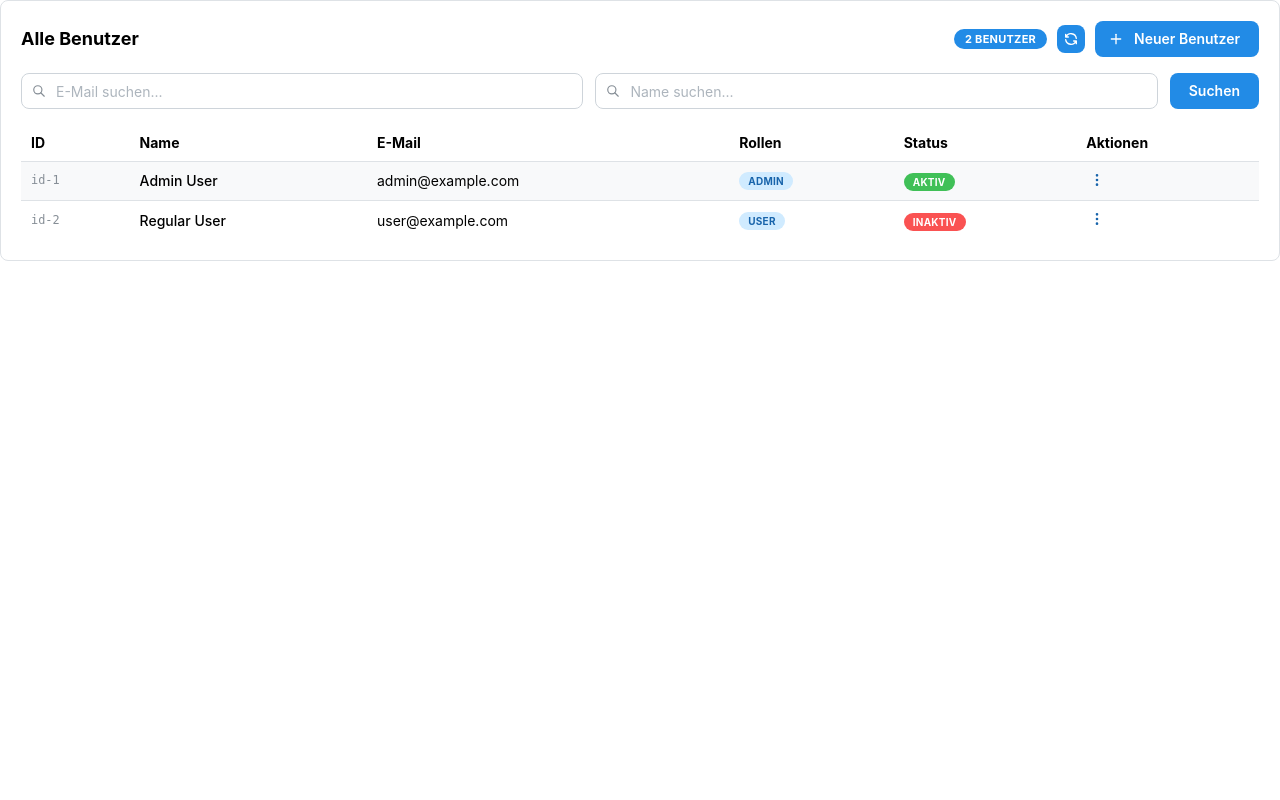
Test: UserList › löscht einen Benutzer nach Bestätigung und lädt die Liste neu
Expected: the text "admin@example.com" is shown, [377,172,519,189]
Click the button without text in the row of "id-1": (1097, 180) [1086,169,1108,191]
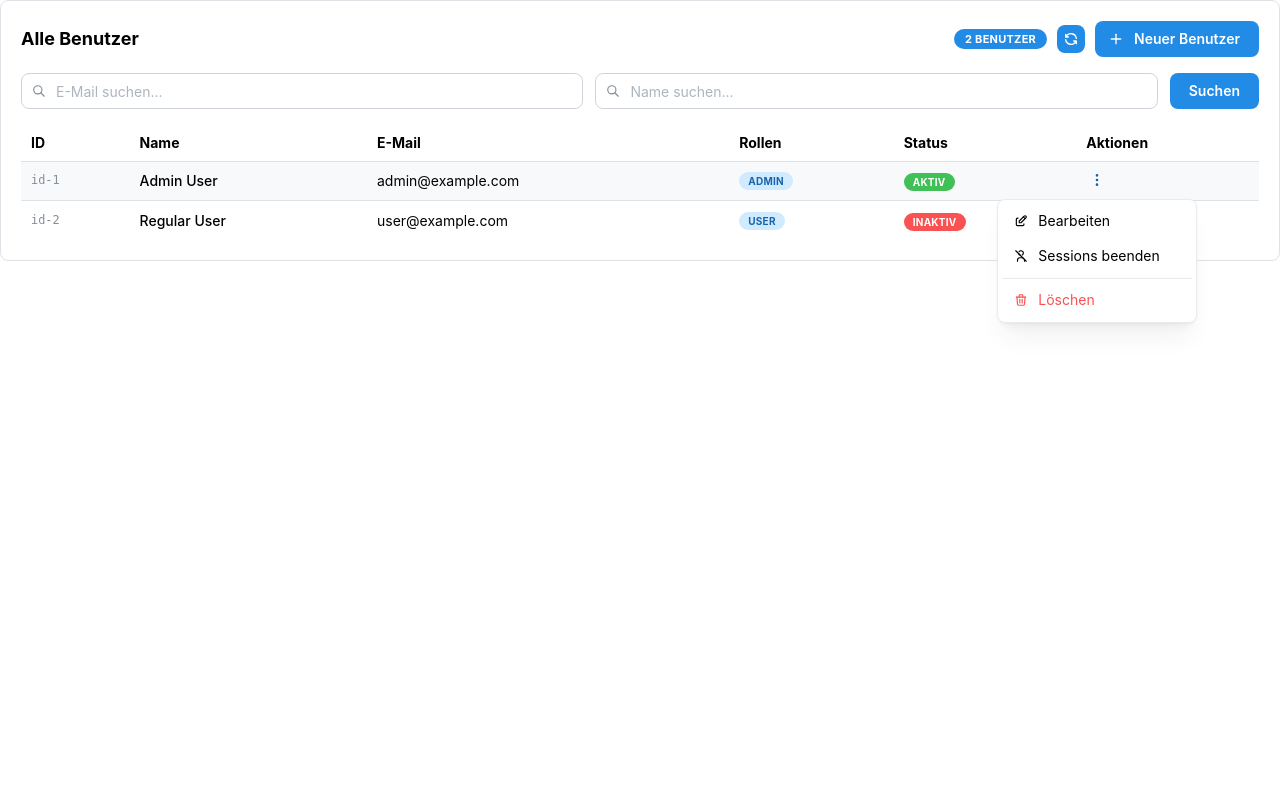
Click the menu item "Löschen": (1097, 300) [1002,283,1192,318]
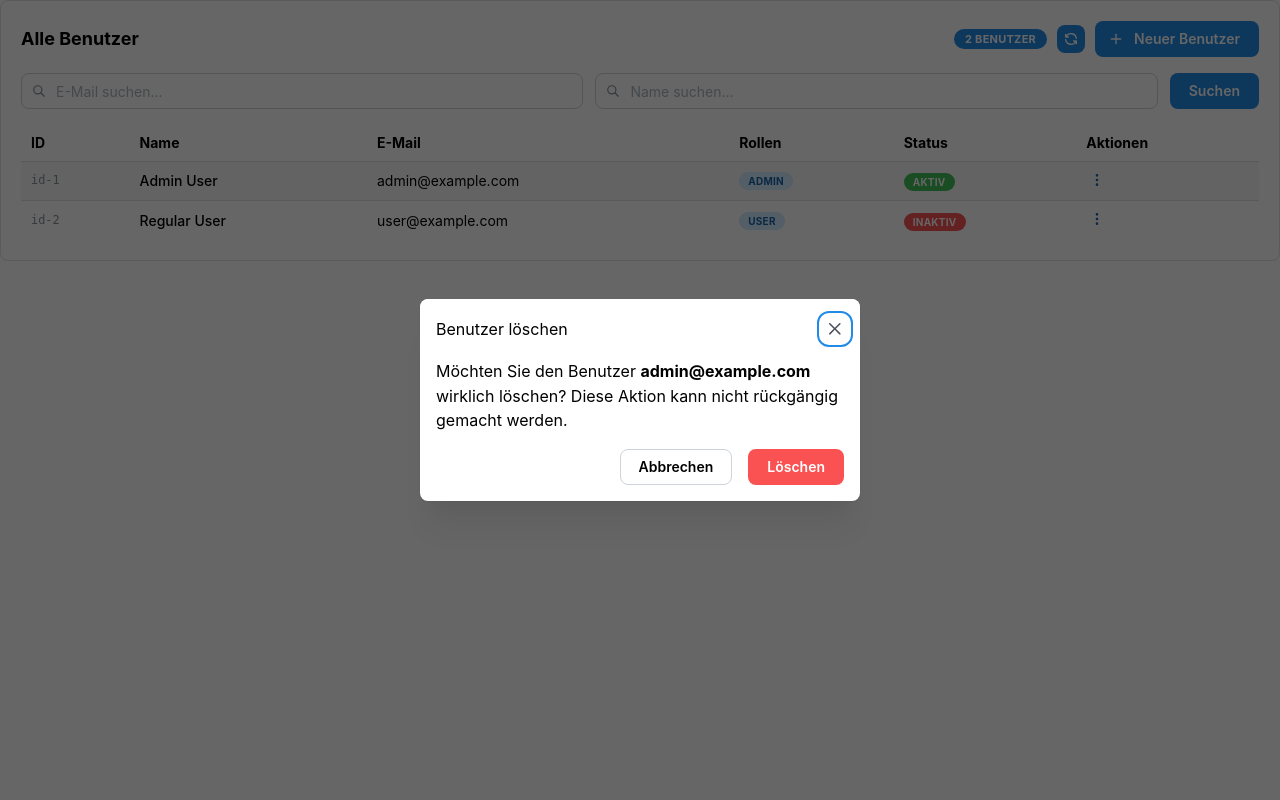
Click the button "Löschen": (796, 467) [748,449,844,485]
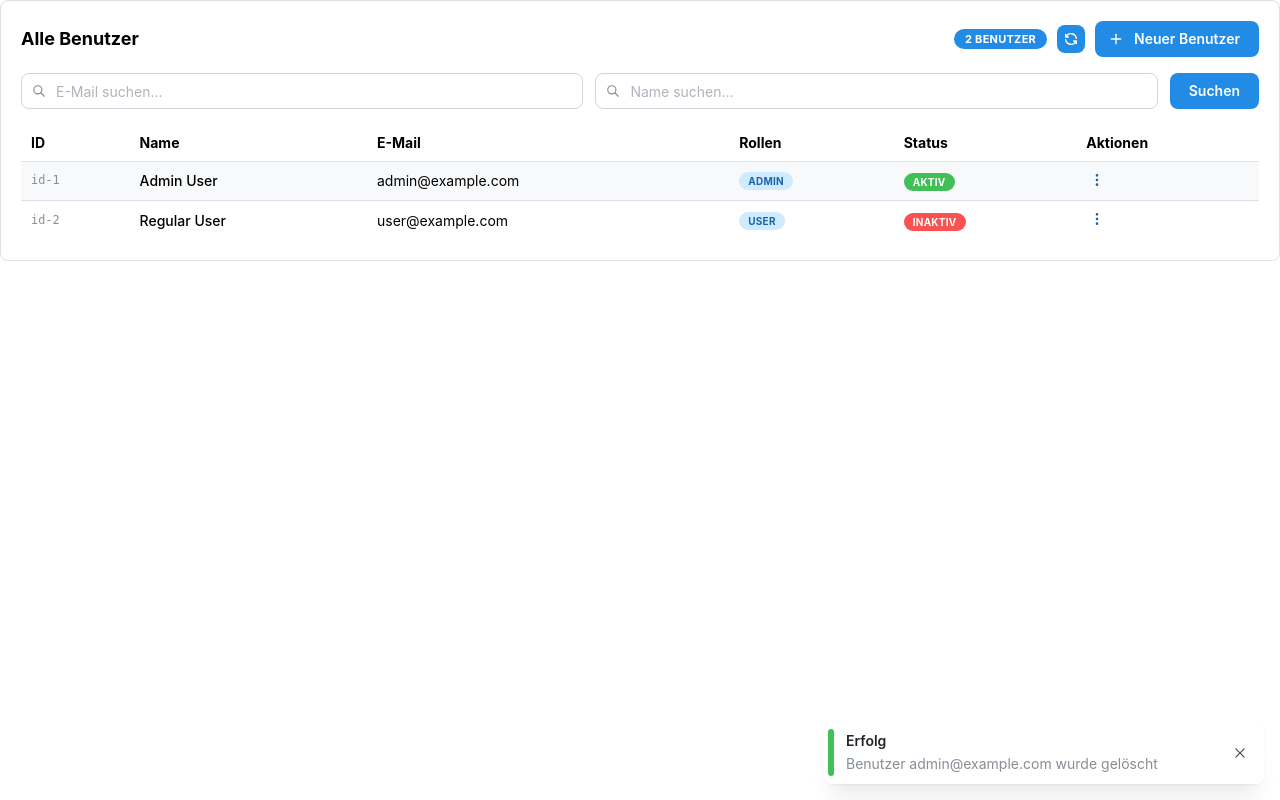
Expected: the text "Benutzer admin@example.com wurde gelöscht" is shown, [846,755,1158,772]
